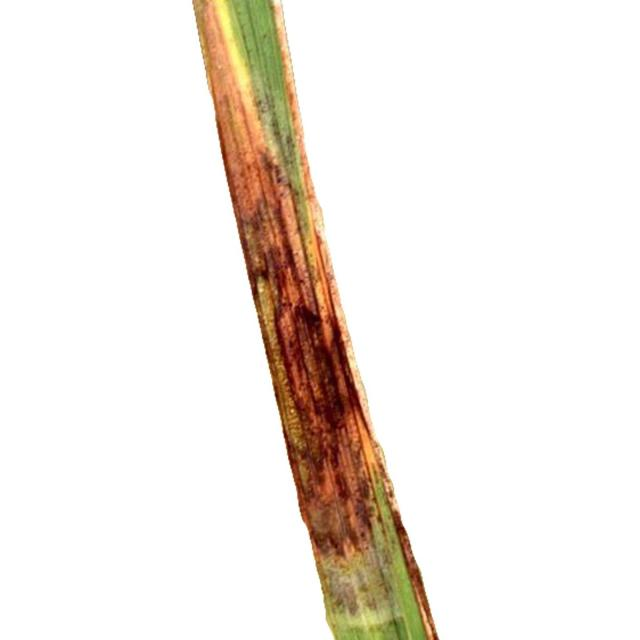Leaf scald: (170, 1, 472, 640)
